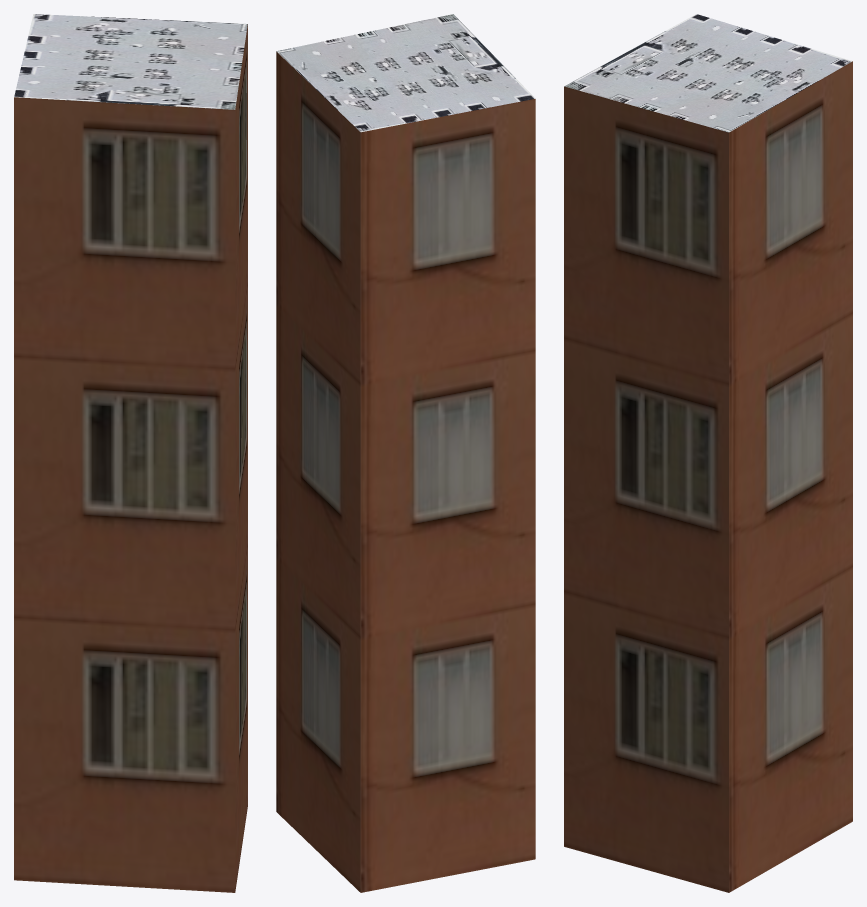
The model's file is ResTex__4812.fbx.
3 renders of one model, left to right at view 1: azimuth 30°, elevation 25°; view 2: azimuth 150°, elevation 25°; view 3: azimuth 270°, elevation 25°, orthographic. The views are drawn at different scales.
Visible parts, largest first — view 1: CityEngineMaterial_20_m, CityEngineMaterial_m; view 2: CityEngineMaterial_20_m, CityEngineMaterial_m; view 3: CityEngineMaterial_20_m, CityEngineMaterial_m.
Boxes of the visible parts, x1,y1,x2,y2 form: CityEngineMaterial_20_m: [14, 24, 247, 892]; CityEngineMaterial_m: [14, 14, 247, 109]; CityEngineMaterial_20_m: [276, 51, 535, 892]; CityEngineMaterial_m: [276, 14, 535, 132]; CityEngineMaterial_20_m: [564, 61, 852, 892]; CityEngineMaterial_m: [564, 14, 852, 132].
Bounding box in the file's own units: 3.01 × 9 × 3.1.
Materials: 2 (2 with a texture image).
